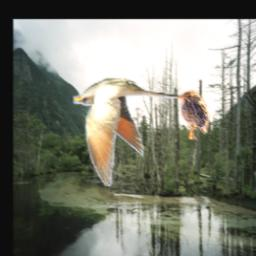Cuckoo: (73, 79, 184, 187)
Sparrow: (177, 90, 210, 139)
